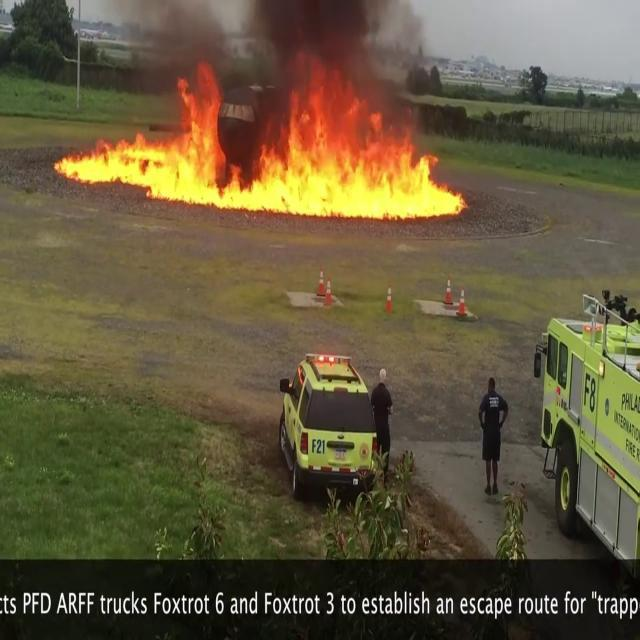Fire: (56, 55, 462, 224)
Smoke: (67, 0, 450, 115)
